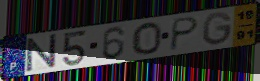5: (61, 29, 88, 67)
6: (101, 24, 127, 62)
G: (201, 11, 234, 47)
N: (25, 32, 58, 73)
O: (130, 21, 163, 56)
P: (168, 15, 201, 53)
